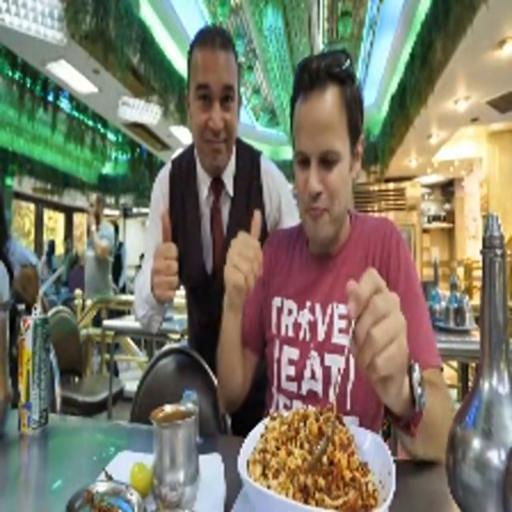nao-violencia: (128, 21, 466, 468)
